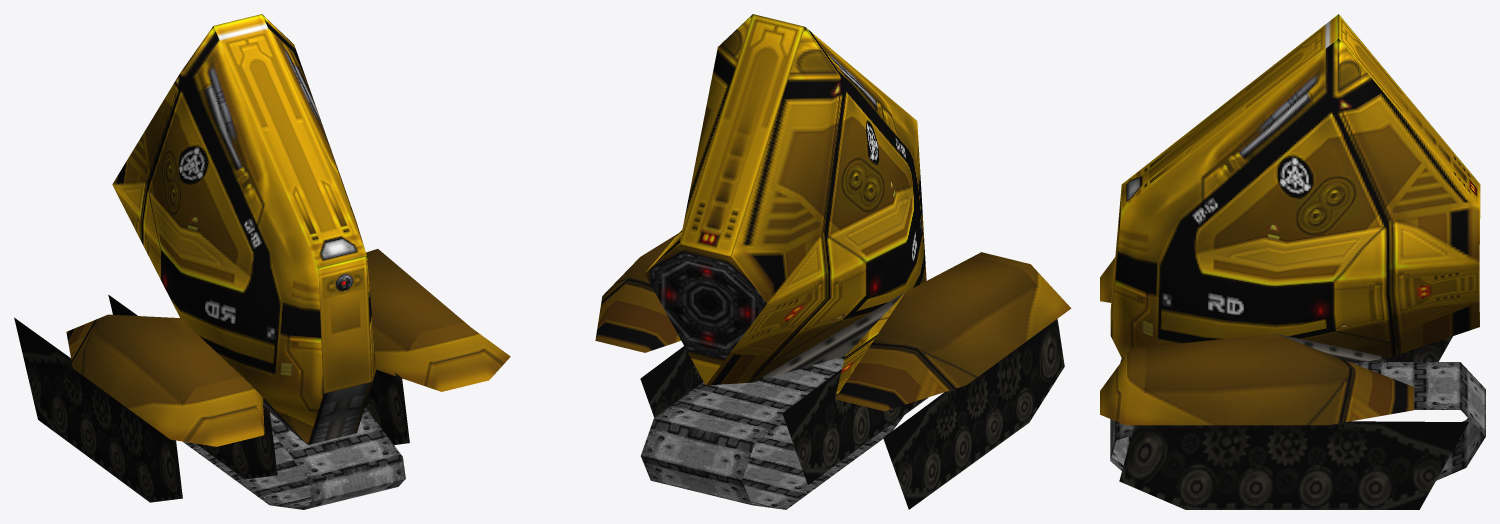
The model's file is LOD_1-Scavenger_t.7-0.obj.
The picture shows the model from 3 angles, left to right: view 1: azimuth 30°, elevation 25°; view 2: azimuth 150°, elevation 25°; view 3: azimuth 270°, elevation 25°; orthographic projection. The views are drawn at different scales.
Visible parts, largest first — view 1: Scavenger_t-scavdood.4-0, Scavenger_t-tractor_l.1-0; view 2: Scavenger_t-scavdood.4-0, Scavenger_t-tractor_l.1-0; view 3: Scavenger_t-scavdood.4-0, Scavenger_t-tractor_l.1-0.
Part boxes in pixels (x1,y1,x2,y2): Scavenger_t-scavdood.4-0: (14, 14, 510, 502); Scavenger_t-tractor_l.1-0: (183, 407, 405, 509); Scavenger_t-scavdood.4-0: (595, 14, 1071, 509); Scavenger_t-tractor_l.1-0: (641, 356, 904, 509); Scavenger_t-scavdood.4-0: (1100, 14, 1480, 509); Scavenger_t-tractor_l.1-0: (1110, 362, 1485, 480).
Bounding box in the file's own units: 8.04 × 9.62 × 7.62.
2 materials, 2 textured.
